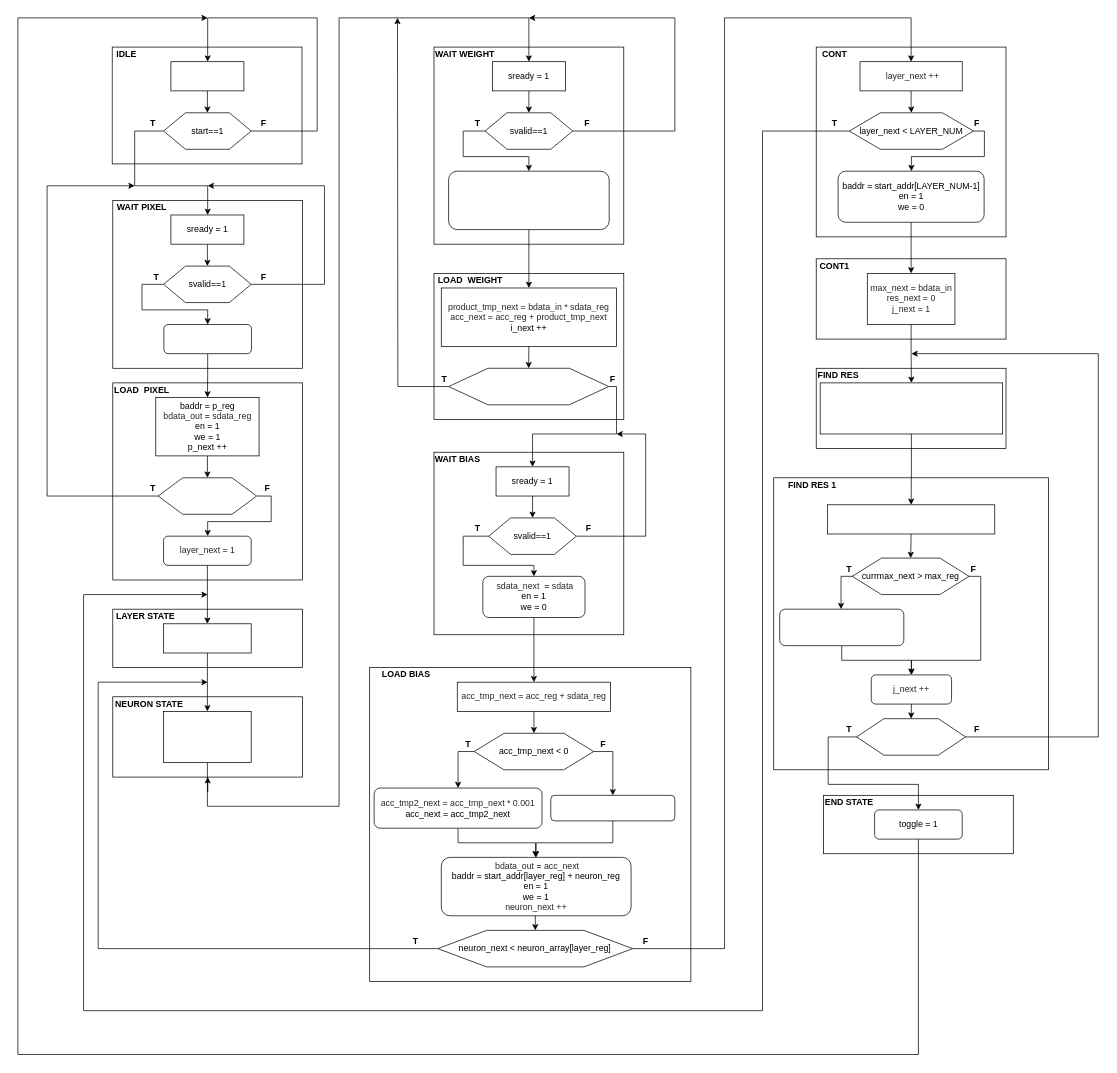
Some shapes in this 1117 by 1073 pixel diagram are drawn without their labels. Each missing label, with the box of its shape:
acc_next = 0 acc_tmp_next = 0 acc_tmp2_next = 0 i_next = 0: (163, 711, 251, 762)
acc_next = acc_tmp_next: (550, 795, 675, 821)
baddr = start_addr[LAYER_NUM-1] + j_next en = 1 we = 0: (819, 382, 1003, 434)
currmax_next = bdata_in: (827, 504, 995, 534)
i_next < neuron_array[layer_reg-1]: (448, 368, 609, 405)
j_next == 10: (856, 718, 966, 755)
max_next = currmax_next res_next = j_reg: (779, 608, 904, 646)
neuron_next = 0: (163, 623, 251, 653)
p_next < IMG_LEN: (157, 477, 257, 514)
ready = 1: (170, 61, 244, 91)
sdata_next = sdata: (163, 324, 251, 354)
sdata_next = sdata baddr = start_addr[layer_reg-1] + i_reg en = 1 we = 0: (448, 170, 609, 230)
